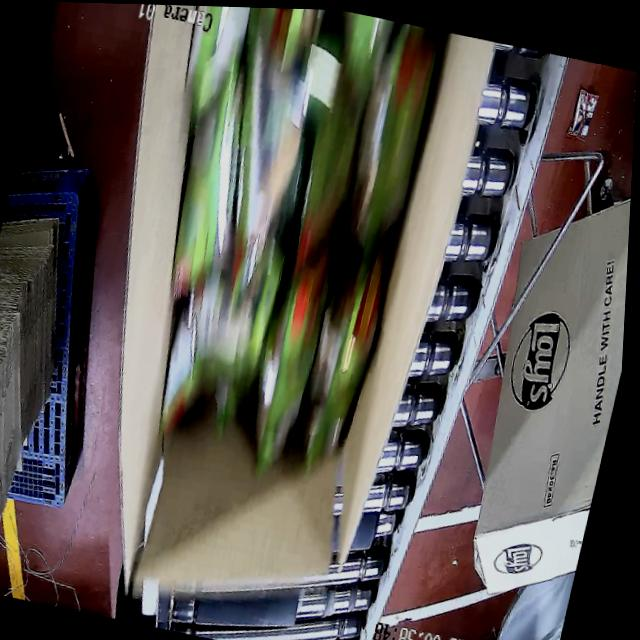YOGURT_HERB: (108, 4, 447, 480)
